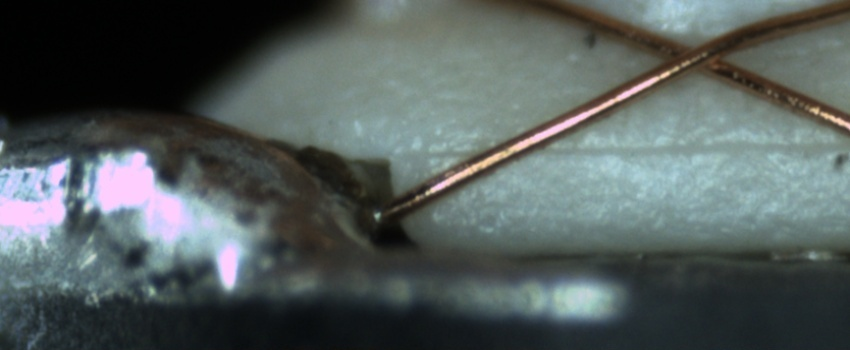CL: (646, 26, 749, 84)
DL: (410, 119, 849, 181)
